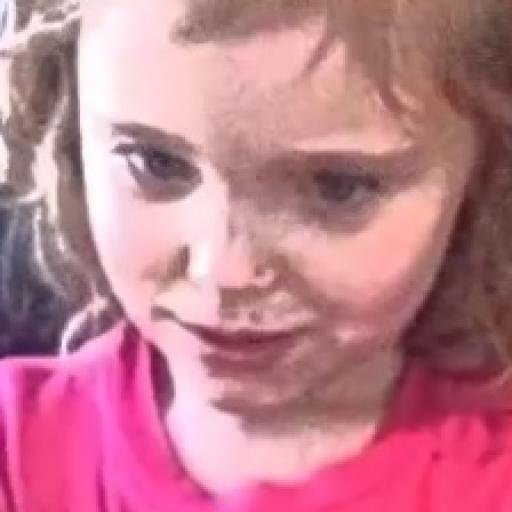Autism: (43, 0, 512, 462)
